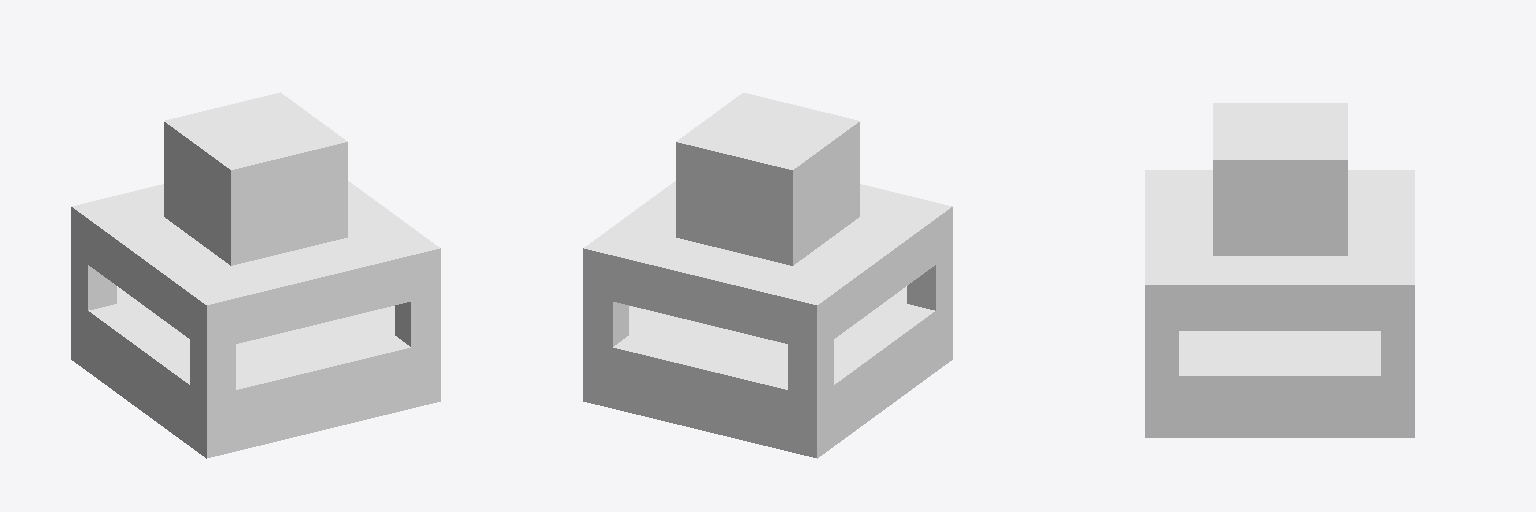
The model's file is engine_base.obj.
The picture shows the model from 3 angles: view 1: azimuth 30°, elevation 25°; view 2: azimuth 150°, elevation 25°; view 3: azimuth 270°, elevation 25°; orthographic projection.
Visible parts, largest first — view 1: base, upperbase; view 2: base, upperbase; view 3: base, upperbase.
Boxes of the visible parts, <box> form: base: <box>71,181,440,458</box>; upperbase: <box>164,92,347,265</box>; base: <box>583,181,952,458</box>; upperbase: <box>676,93,859,265</box>; base: <box>1145,170,1414,437</box>; upperbase: <box>1213,103,1347,255</box>.
Bounding box in the file's own units: 0.9966 × 1.01 × 0.9966.